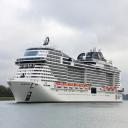cruises: (8, 37, 126, 106)
